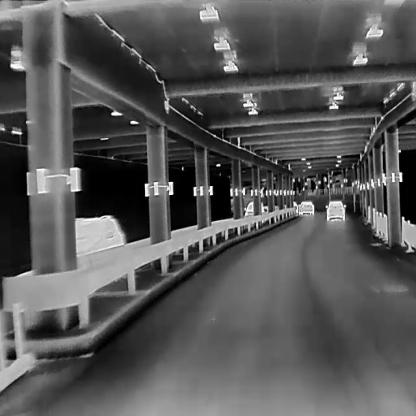car: (73, 214, 125, 262), (324, 200, 346, 221), (242, 200, 263, 216), (298, 201, 313, 215)
